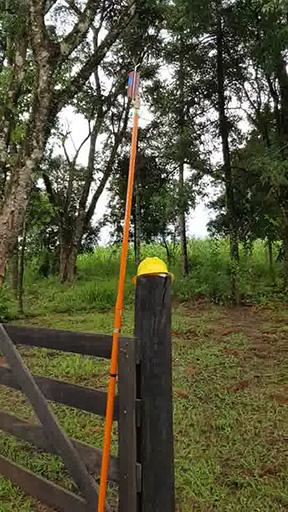Detector_Tensao_Contato: (125, 60, 141, 102)
Vara_Manobra: (96, 101, 141, 512)
